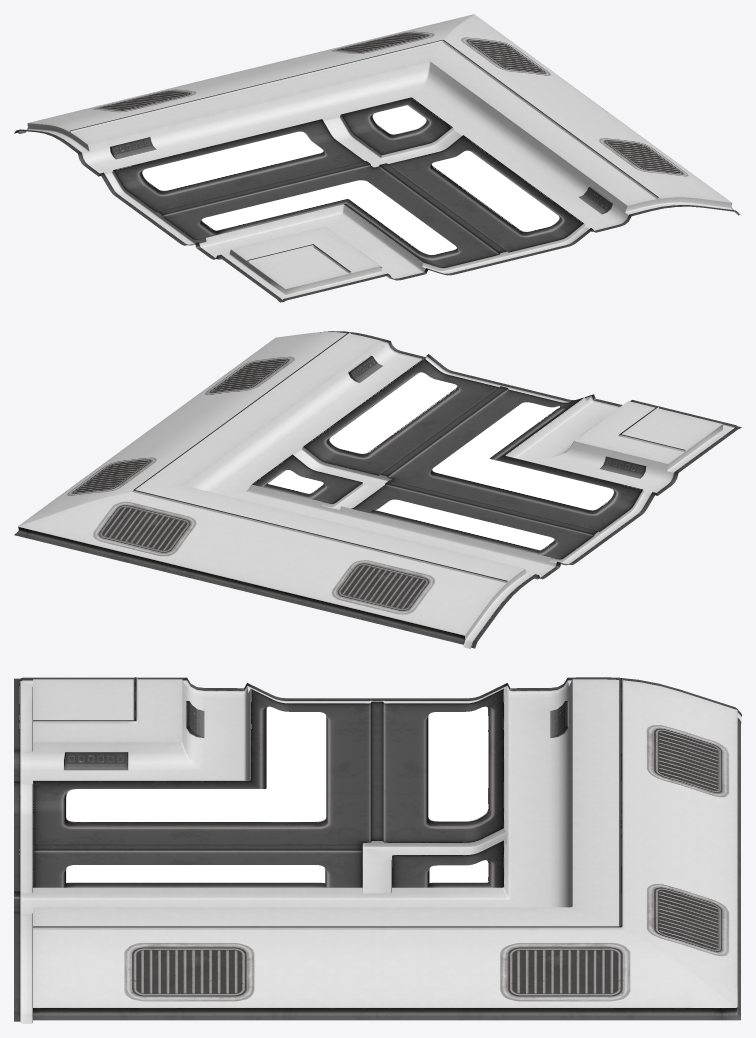
Rendered from MCeiling01-350x350-Corner2.FBX.
3 renders of one model, top to bottom at view 1: azimuth 30°, elevation 25°; view 2: azimuth 150°, elevation 25°; view 3: azimuth 270°, elevation 25°, orthographic. The views are drawn at different scales.
Visible parts, largest first — view 1: MCeiling01-350x350-Corner2; view 2: MCeiling01-350x350-Corner2; view 3: MCeiling01-350x350-Corner2.
Part boxes in pixels (<box>): MCeiling01-350x350-Corner2: <box>14,14,740,302</box>; MCeiling01-350x350-Corner2: <box>14,331,741,648</box>; MCeiling01-350x350-Corner2: <box>14,677,741,1023</box>.
Size of what is drawn, in the model's own units: 3.51 by 0.25 by 3.51.
